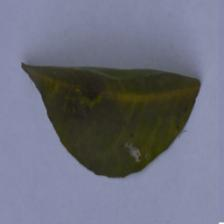greening: (118, 67, 173, 119)
